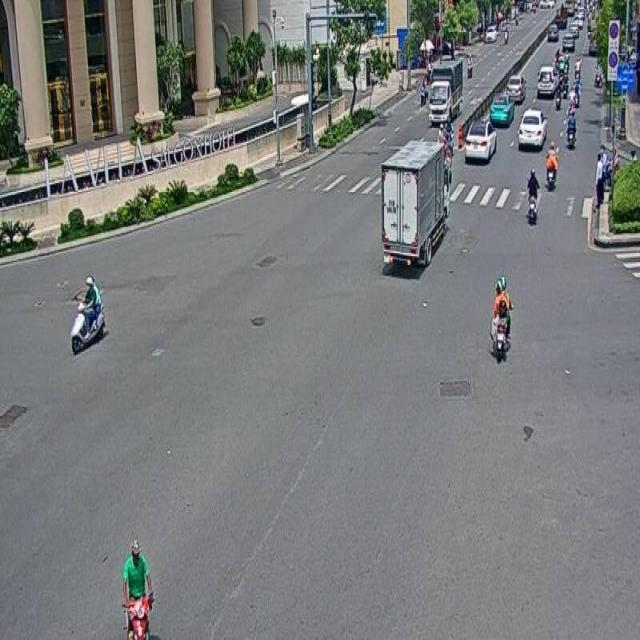motorcycle: (120, 536, 154, 640), (67, 276, 107, 356), (489, 279, 510, 366), (525, 168, 541, 225)
truck: (379, 136, 448, 277)
